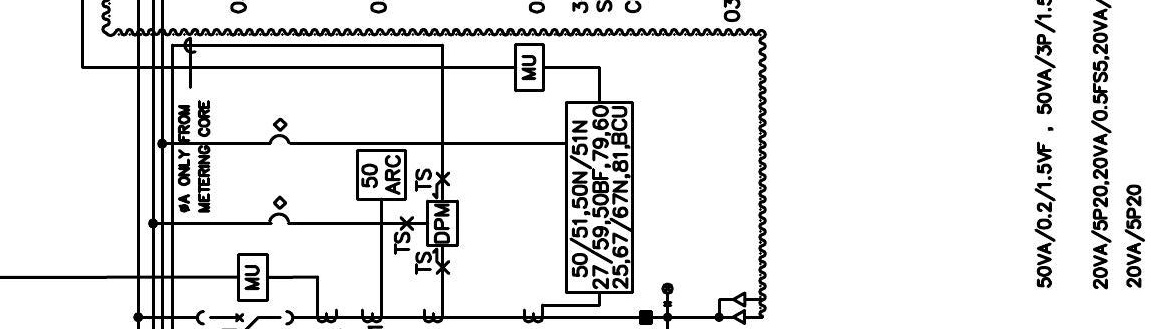22_ll: (661, 281, 675, 308)
DPM: (425, 200, 460, 248)
MU: (236, 252, 270, 303), (513, 42, 546, 93)
terminator_double: (717, 291, 747, 326)
